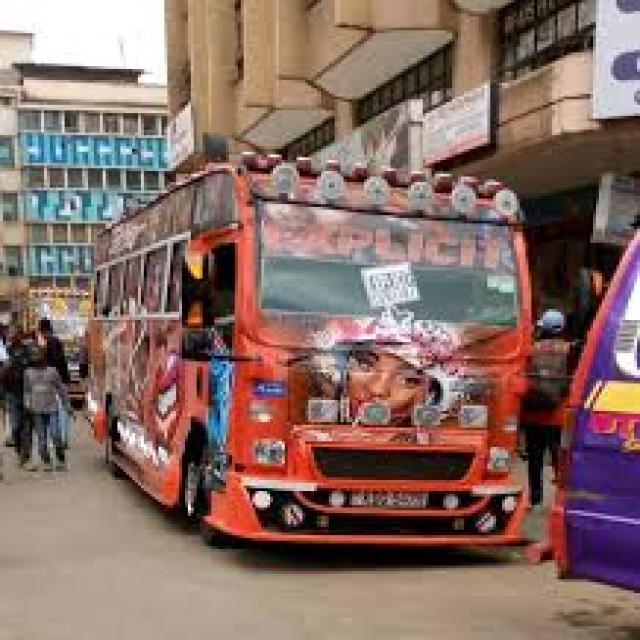bus: (79, 116, 550, 574)
